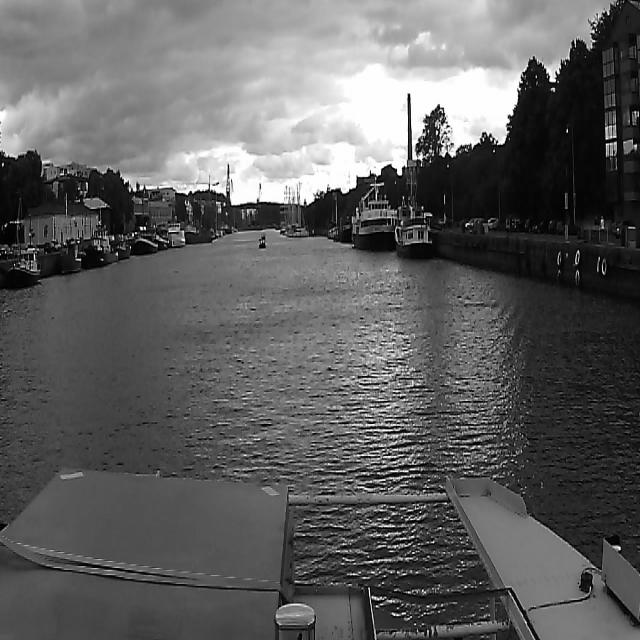ship: (352, 181, 392, 250), (394, 203, 433, 256), (81, 225, 121, 268), (8, 248, 42, 291), (59, 245, 83, 271), (186, 227, 214, 244), (166, 221, 182, 250), (134, 238, 158, 255), (184, 229, 206, 242), (258, 236, 267, 248), (257, 231, 267, 241)
